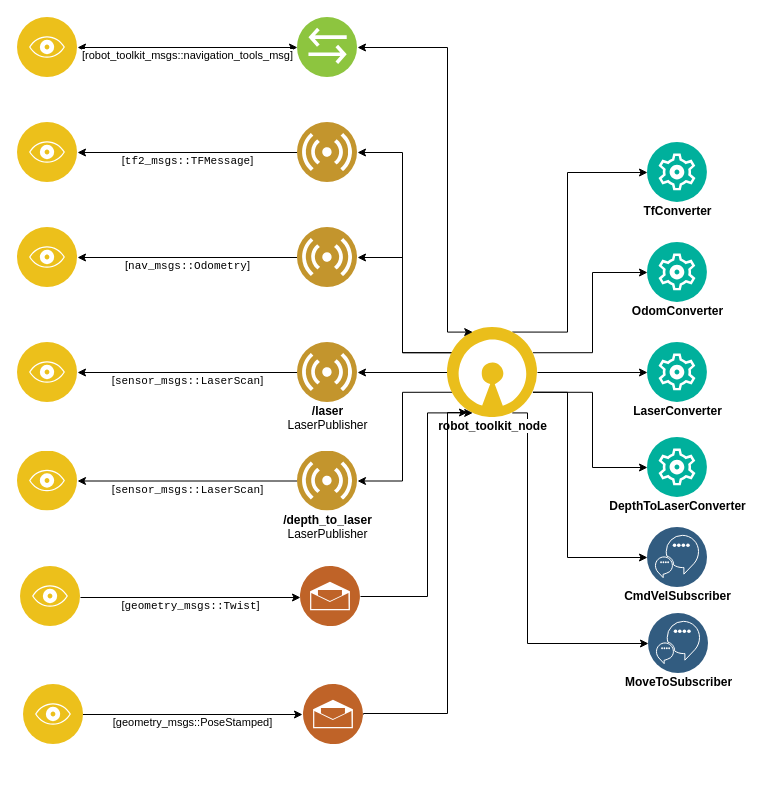
Image size: 762x792. Some labels were removed from this diagram. Each missing label, with the centre of its shape:
/cmd_vel CmdVelSubscriber: the point at 330,596
/move_base_simple/goal CmdVelSubscriber: the point at 333,714
/odom OdomPublisher: the point at 327,257
/robot_tookit/navigation_tools_service RobotToolkit::navigationToolsSrv: the point at 327,47
/tf TfPublisher: the point at 327,152
